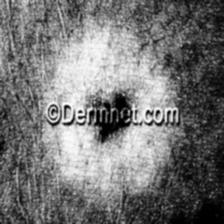Potentially Malignant Skin Tumors: (166, 186, 224, 224), (98, 125, 131, 150)
